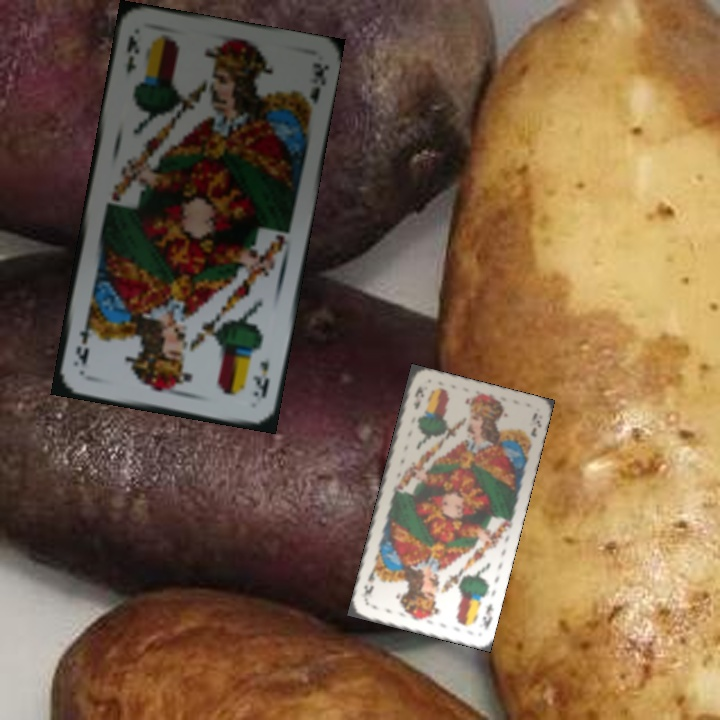EK: (248, 357, 272, 401), (122, 31, 142, 77), (479, 600, 496, 633), (410, 382, 427, 412)
